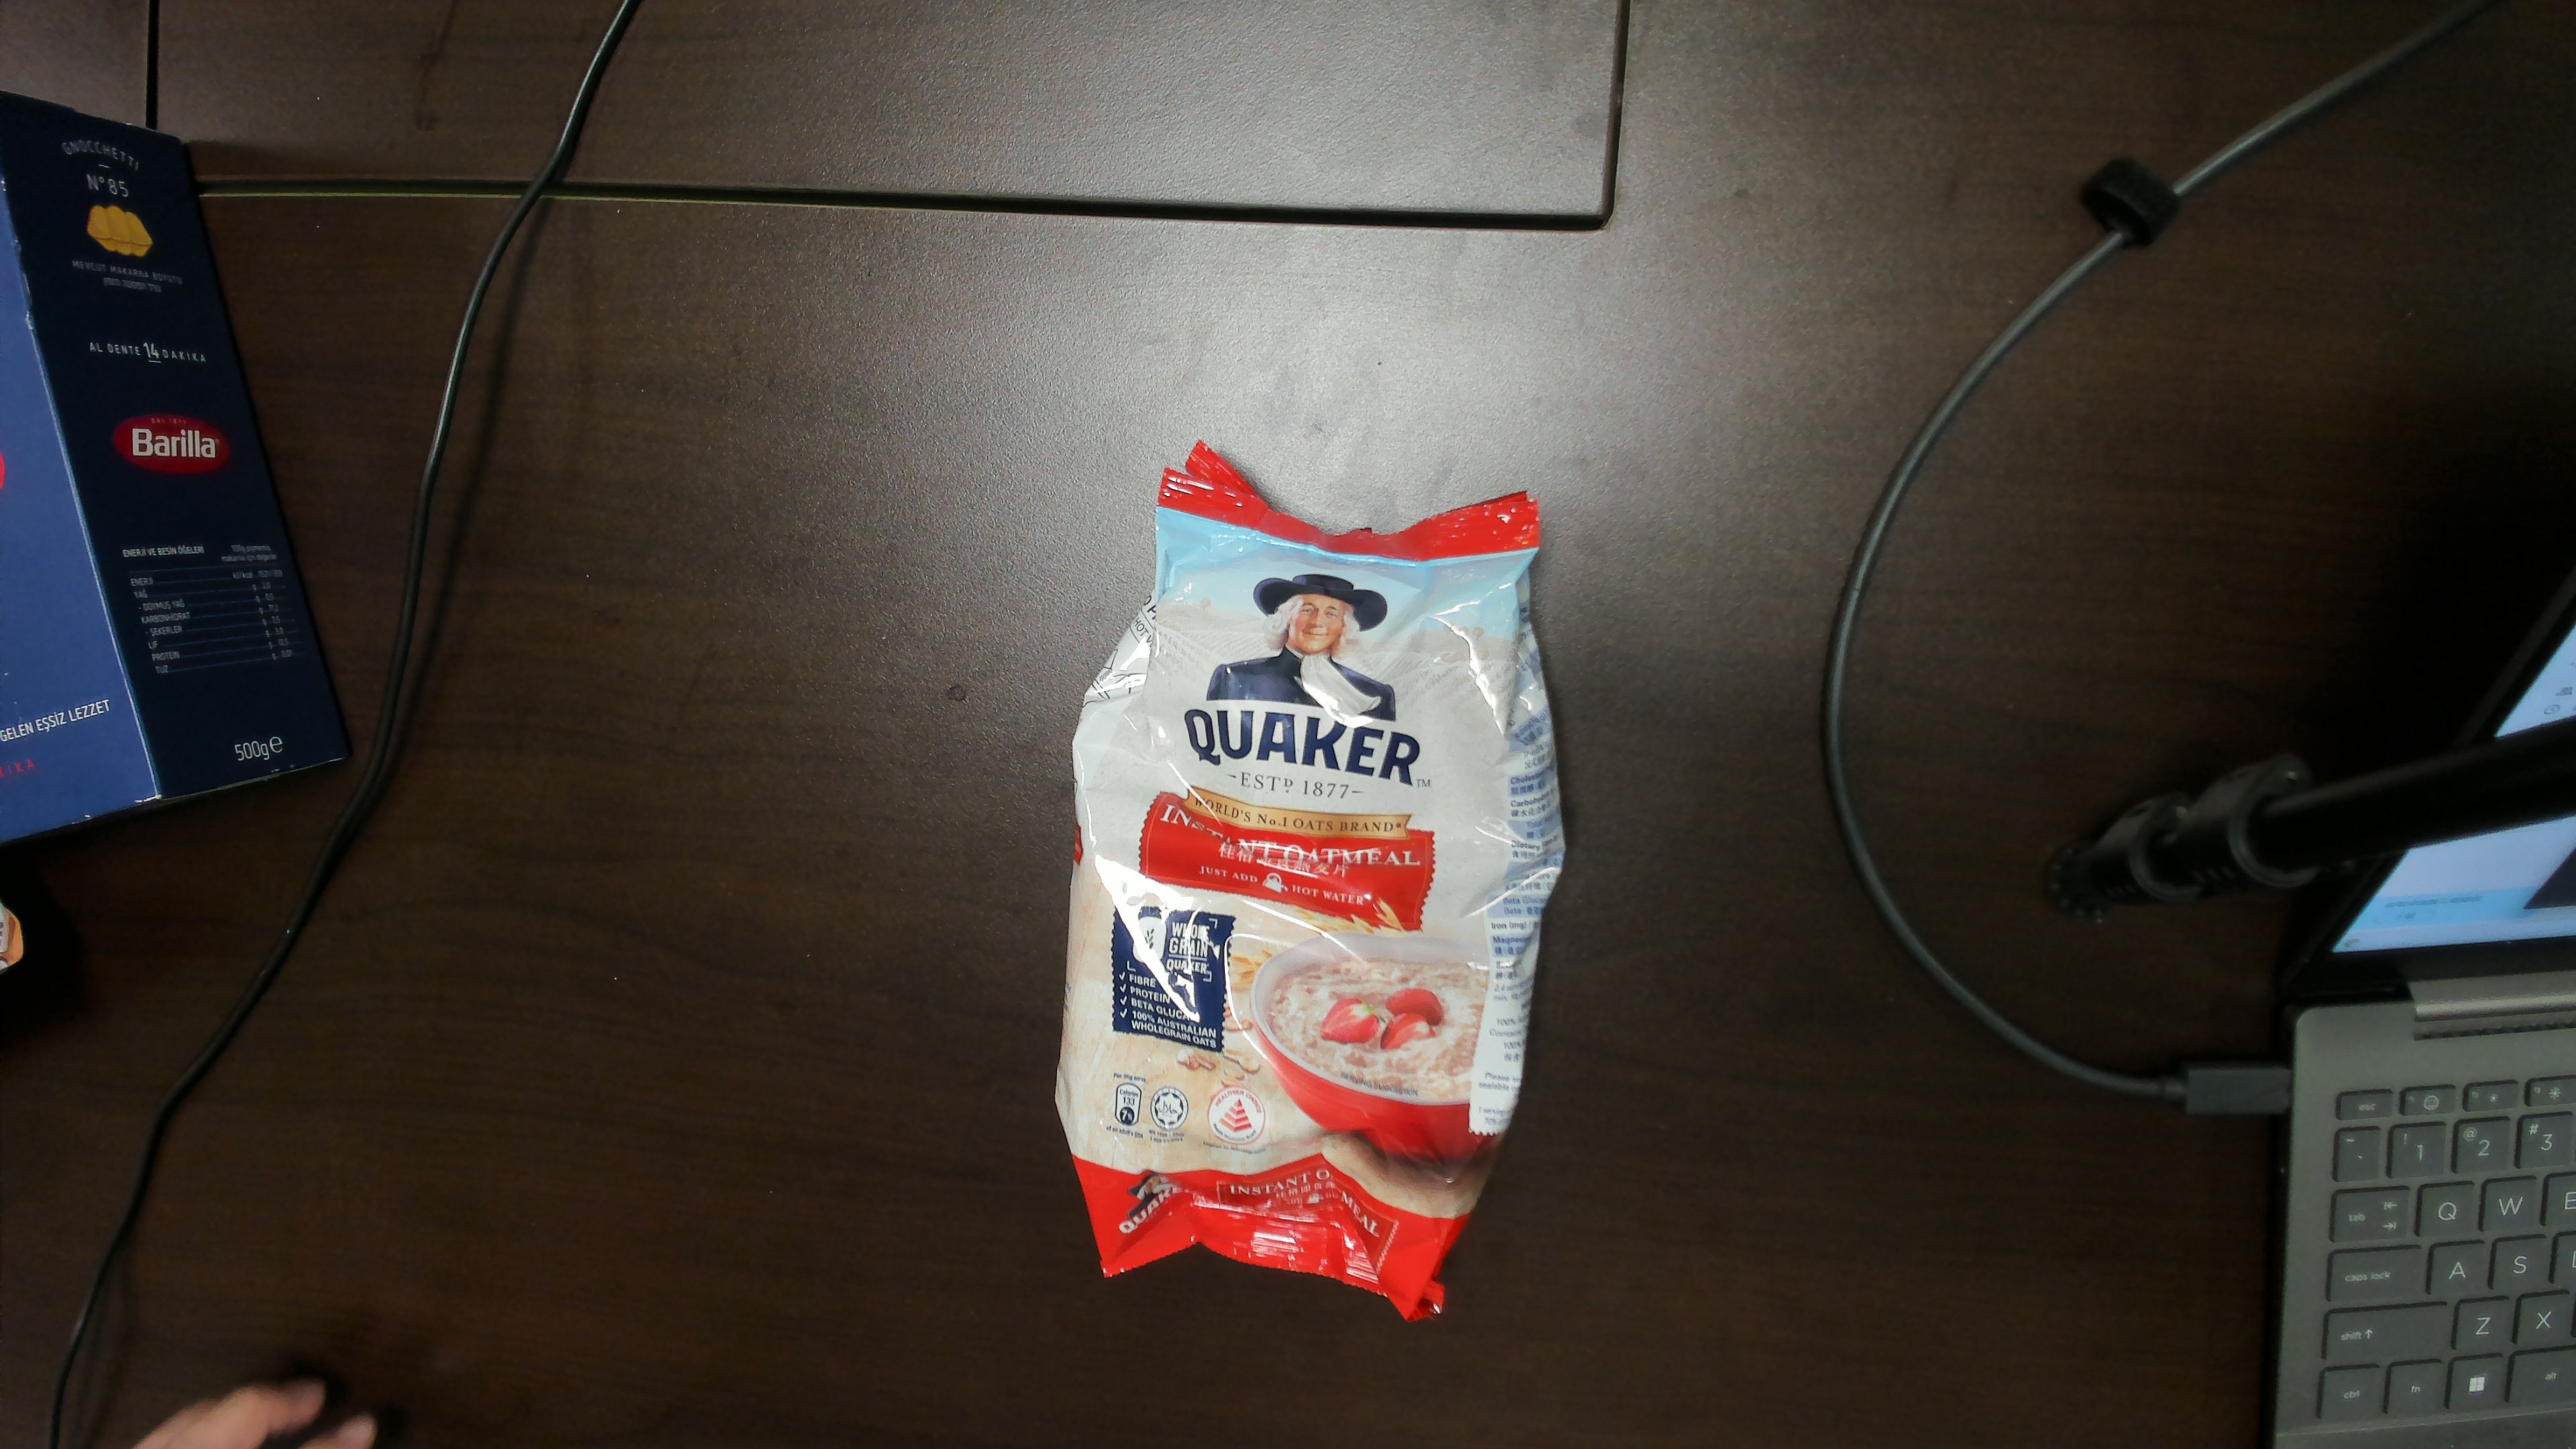RolledOatsInstantOatmeal_400-499g_Halal_Healthy: (1093, 525, 1525, 1277)
